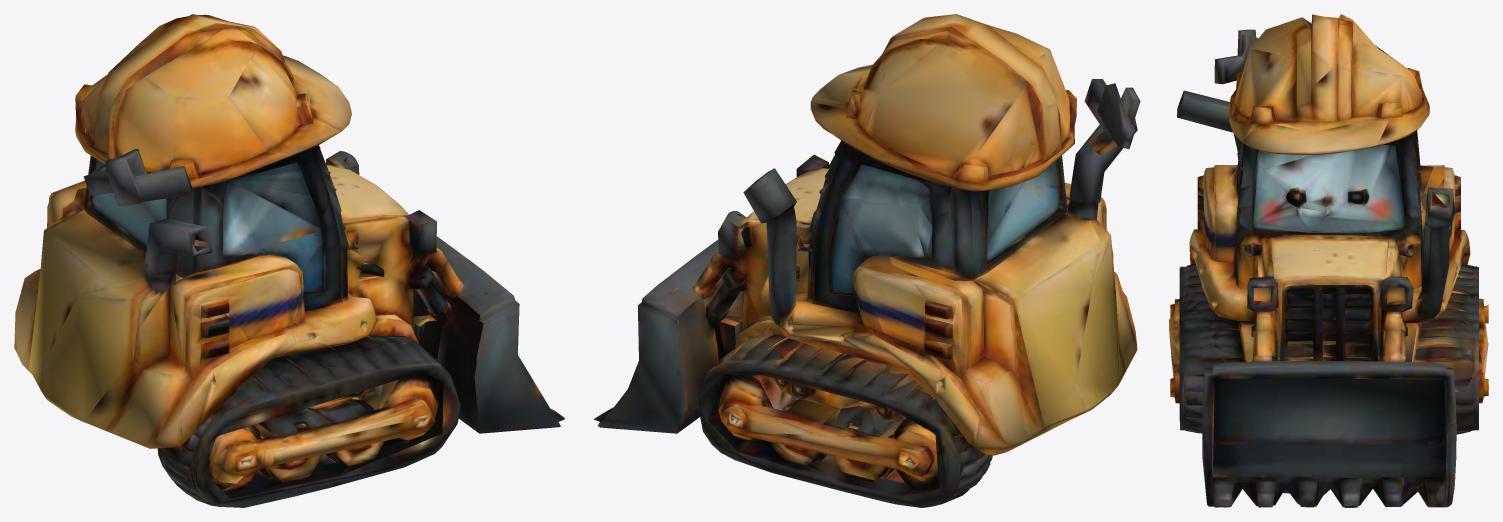
Rendered from dozer.glb.
3 renders of one model, left to right at view 1: azimuth 30°, elevation 25°; view 2: azimuth 150°, elevation 25°; view 3: azimuth 270°, elevation 25°, orthographic. The views are drawn at different scales.
Visible parts, largest first — view 1: texture_pbr_v128; view 2: texture_pbr_v128; view 3: texture_pbr_v128.
Part boxes in pixels (x1=…): texture_pbr_v128: x1=14, y1=14, x2=564, y2=507; texture_pbr_v128: x1=593, y1=14, x2=1140, y2=507; texture_pbr_v128: x1=1169, y1=14, x2=1488, y2=507.
Size of the model in its own units: 0.8322 by 0.763 by 0.6035.
Materials: 1 (1 with a texture image).
